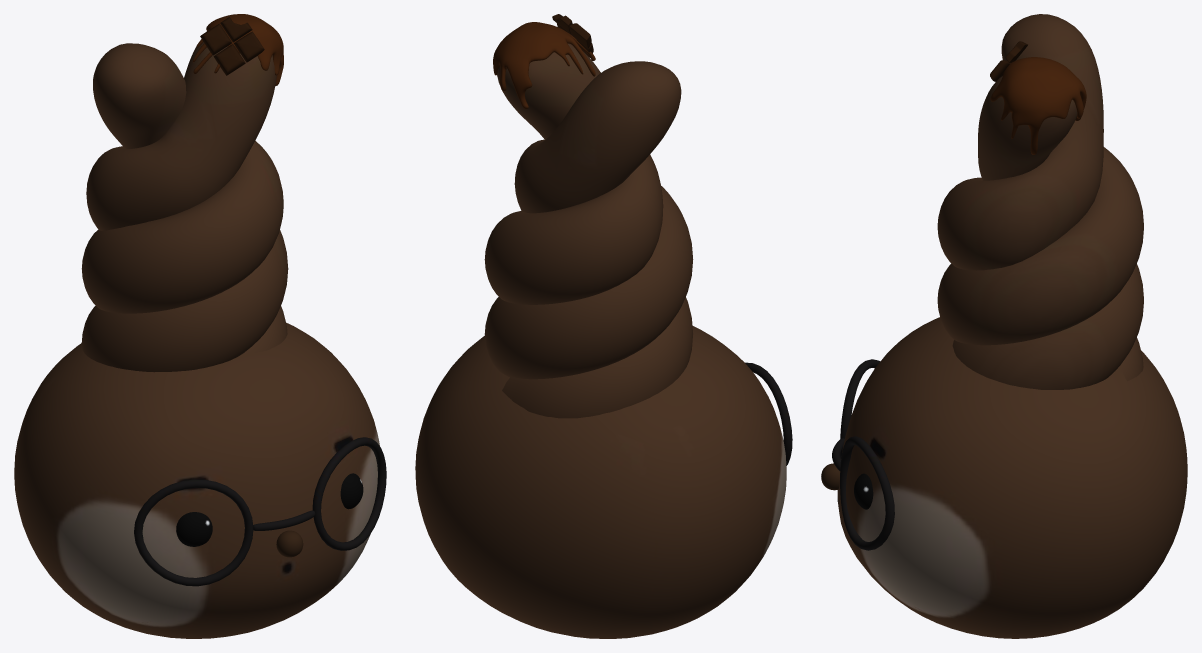
The model's file is picoHead.fbx.
The picture shows the model from 3 angles, left to right: view 1: azimuth 30°, elevation 25°; view 2: azimuth 150°, elevation 25°; view 3: azimuth 270°, elevation 25°; orthographic projection.
Parts seen in each view (by area): view 1: polySurface3; view 2: polySurface3; view 3: polySurface3.
Boxes of the visible parts, left/top/right/bottom form: polySurface3: left=14, top=14, right=386, bottom=638; polySurface3: left=415, top=14, right=792, bottom=638; polySurface3: left=821, top=14, right=1187, bottom=638.
Bounding box in the file's own units: 527 × 935 × 525.
Materials: 2 (2 with a texture image).
